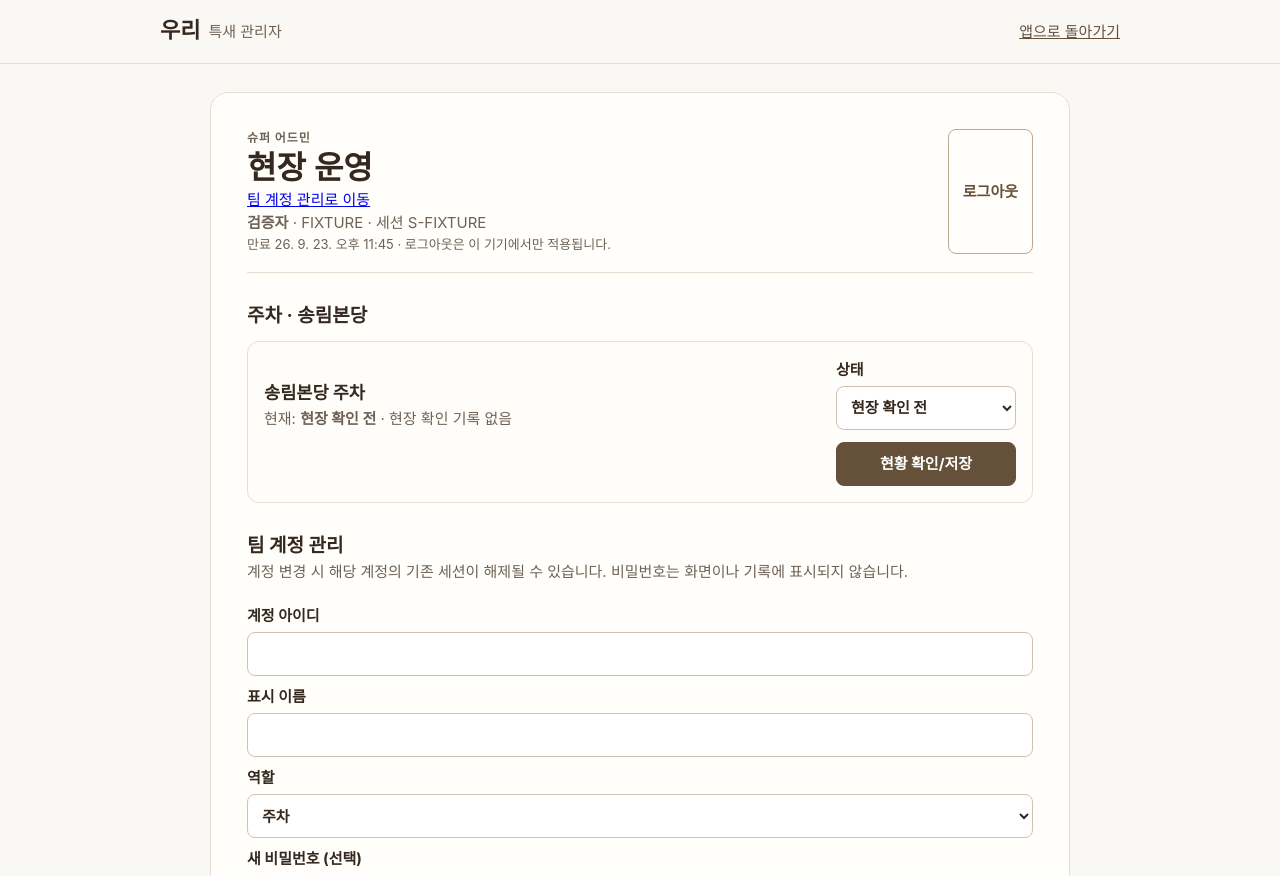
Test: finishes account creation and resets the form when a poll overlaps its POST
The image size is (1280, 876).
expect the heading "팀 계정 관리" is shown: met, box [247,534,343,557]
Type "NEWTEAM" into the field labelled "계정 아이디".
click(640, 654); type("NEWTEAM")  # box [247,632,1033,676]
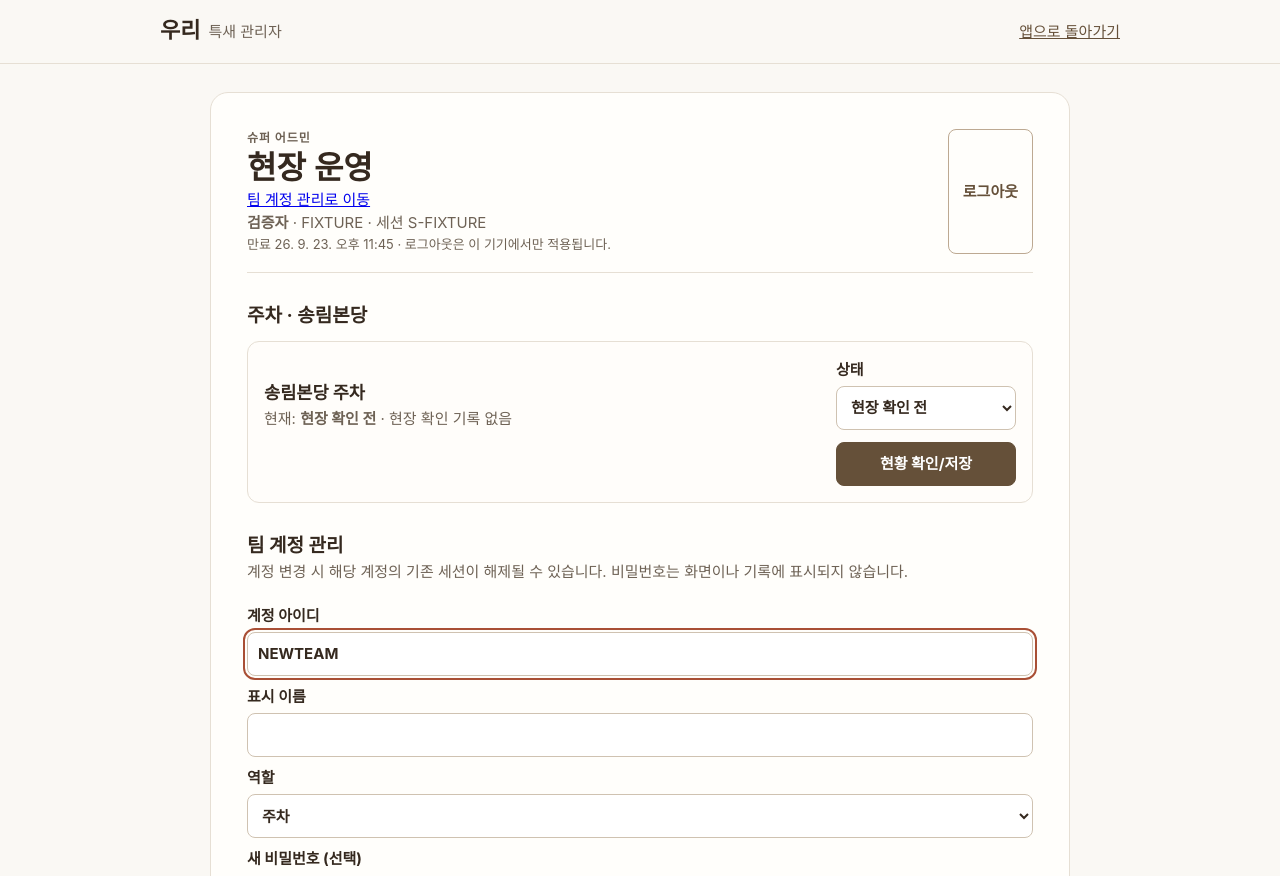
Type "주차 지원" into the field labelled "표시 이름".
click(640, 735); type("주차 지원")  # box [247,713,1033,757]
(page scrolled)
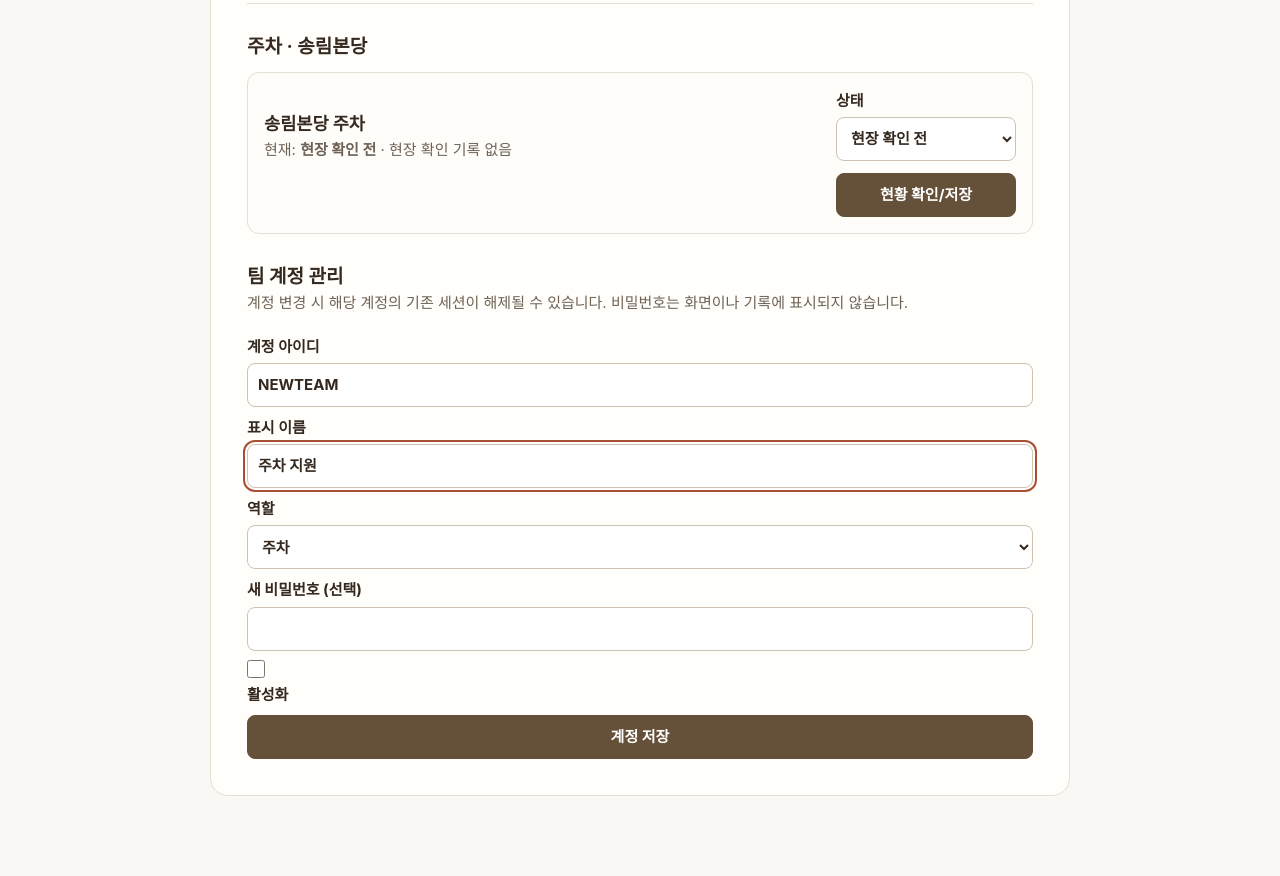
Click the button "계정 저장".
click(640, 737)  # box [247,715,1033,759]
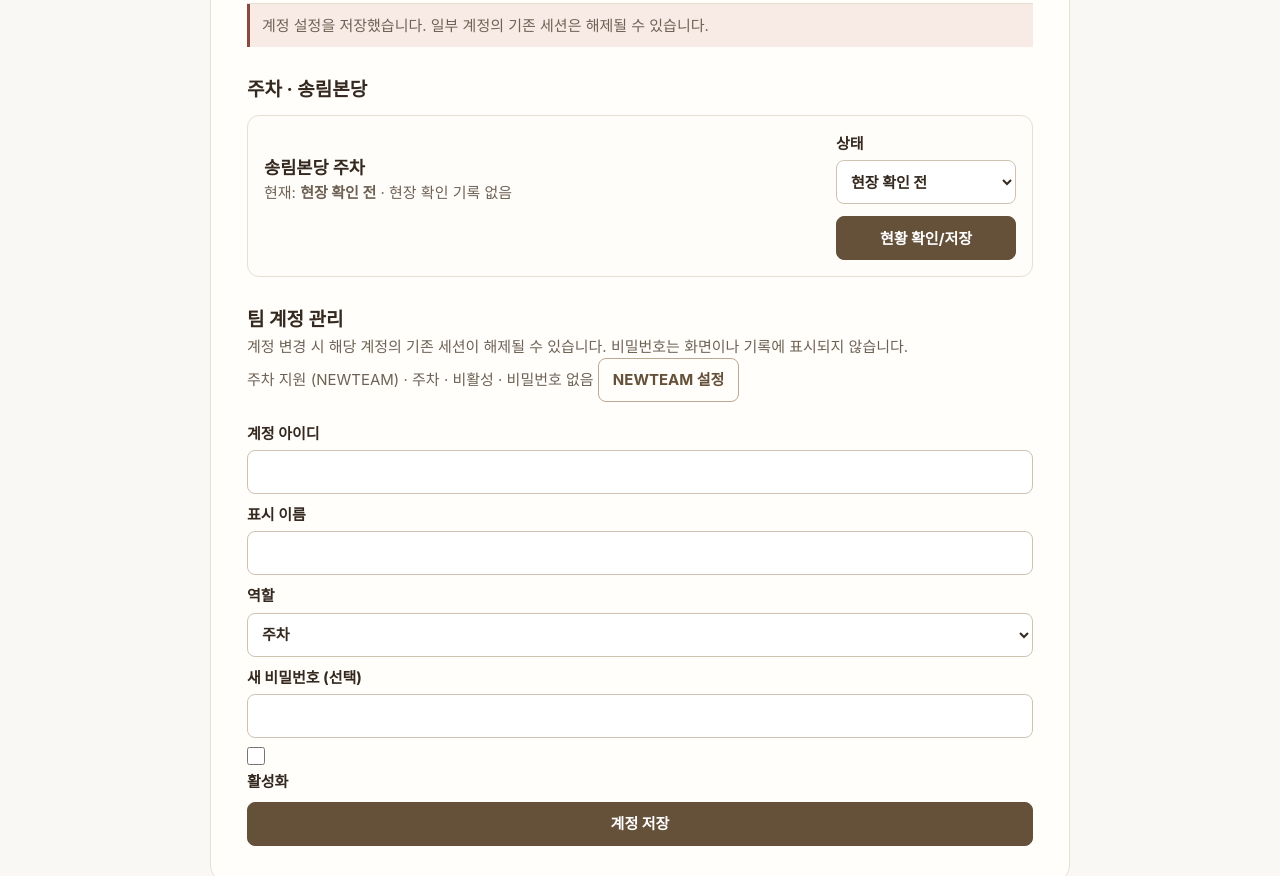
expect the button "계정 저장" is enabled: met, box [247,802,1033,846]
expect the text "계정 설정을 저장했습니다. 일부 계정의 기존 세션은 해제될 수 있습니다." is shown: met, box [247,4,1033,48]
expect the field labelled "계정 아이디" is empty: met, box [247,450,1033,494]
